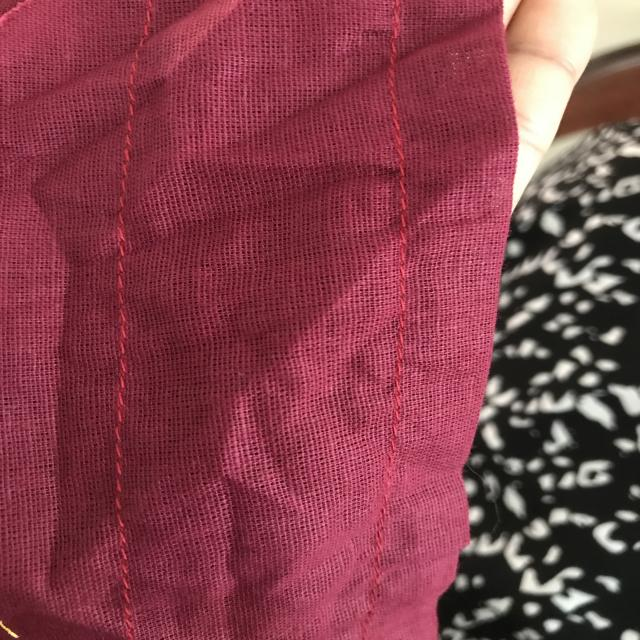good: (89, 407, 150, 528)
